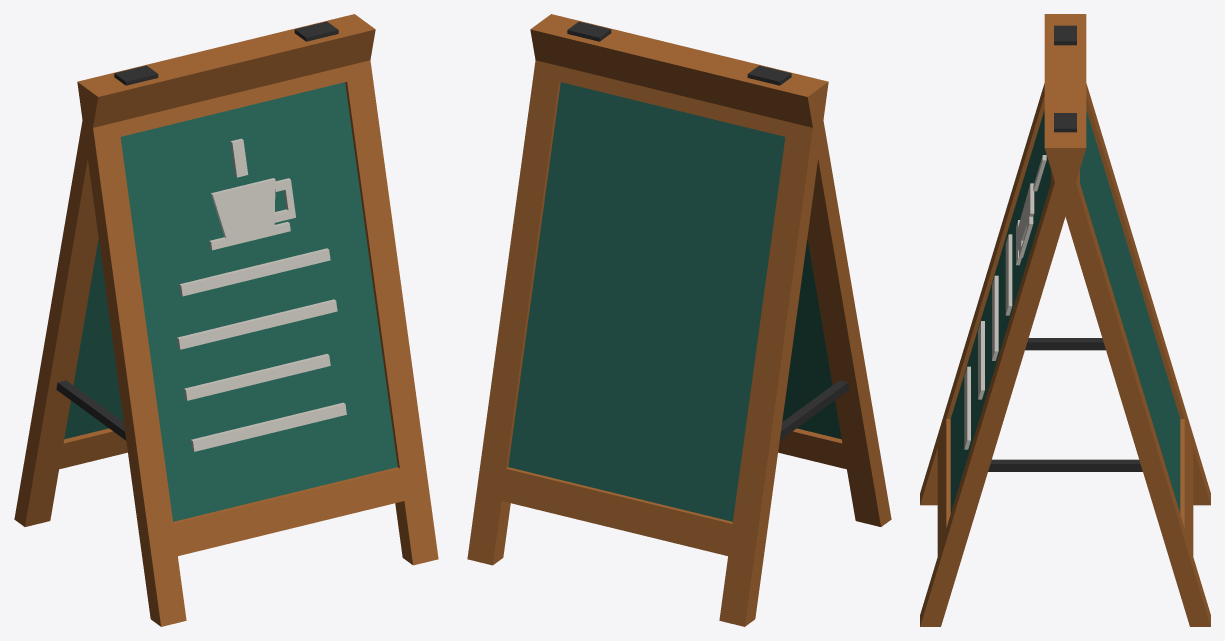
File: menu_tahtasi.glb
3 views of the same model, side by side, from view 1: azimuth 30°, elevation 25°; view 2: azimuth 150°, elevation 25°; view 3: azimuth 270°, elevation 25° (orthographic).
Visible parts, largest first — view 1: menu_tahtasi; view 2: menu_tahtasi; view 3: menu_tahtasi.
Part boxes in pixels (bbox=[...]): menu_tahtasi: bbox=[14, 14, 438, 626]; menu_tahtasi: bbox=[467, 14, 891, 626]; menu_tahtasi: bbox=[920, 14, 1210, 626].
Bounding box in the file's own units: 0.6 × 1.01 × 0.55.
